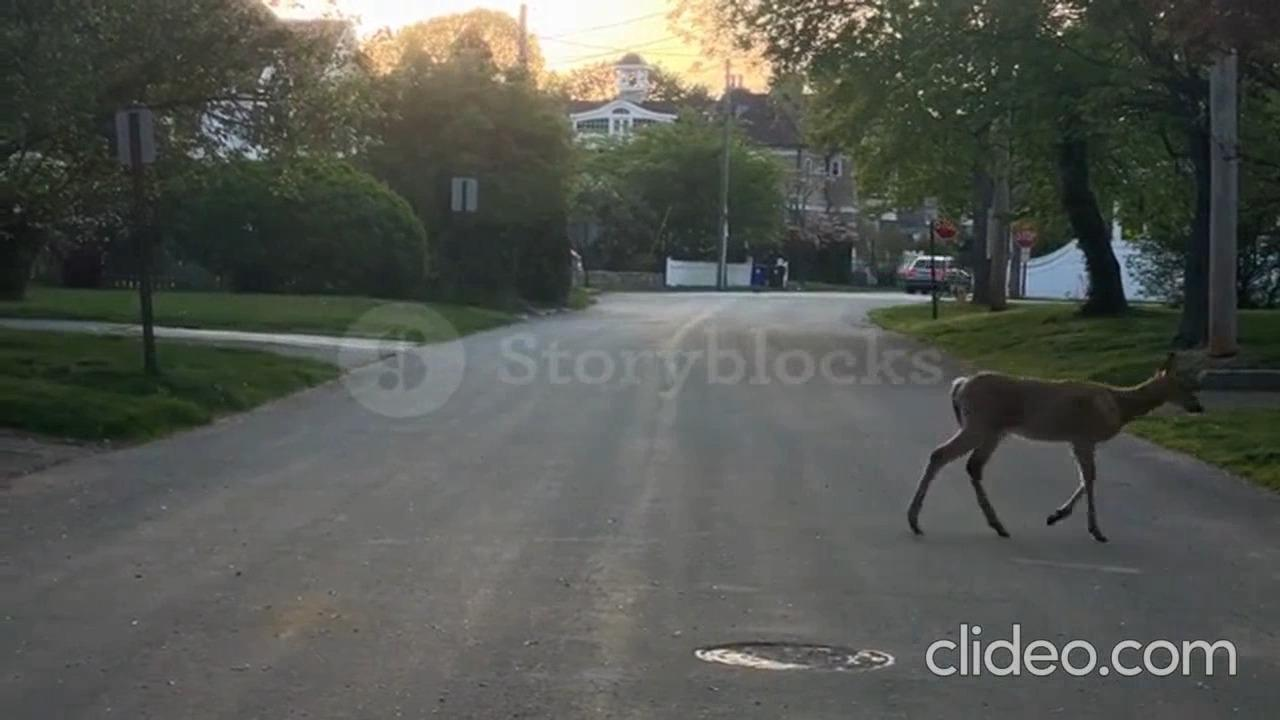deer: (906, 347, 1207, 554)
